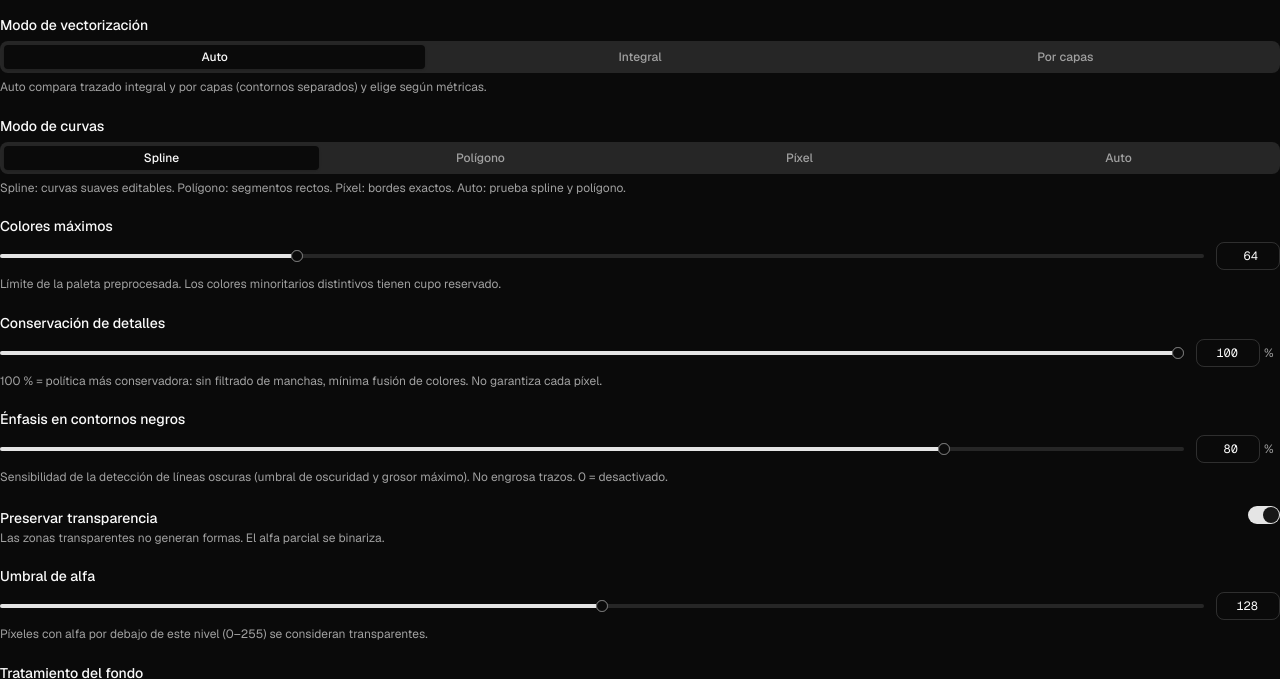
Test: ParamsPanel › muestra incompatibilidades
Click the radio button labelled "Por capas": point(1065, 57) [855,45,1276,69]
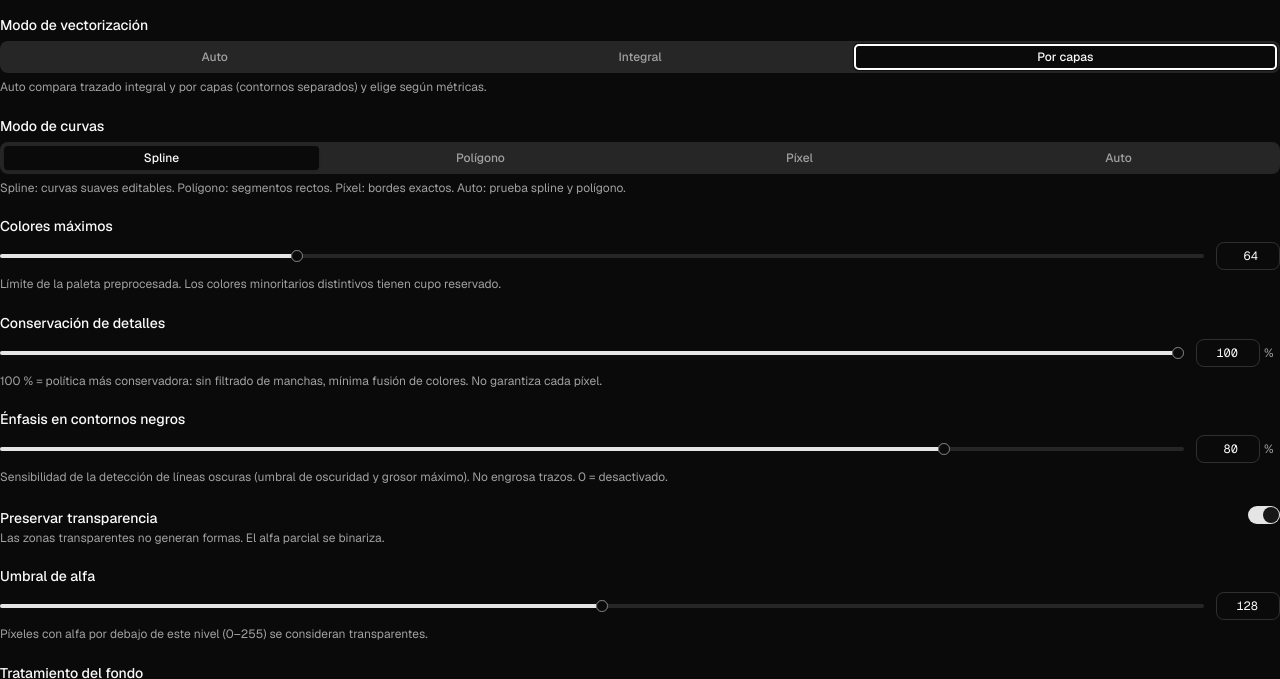
Replace the text in the number field with test id "input-outline_emphasis" with "0": point(1228, 449) [1196,435,1260,463]
(page scrolled)
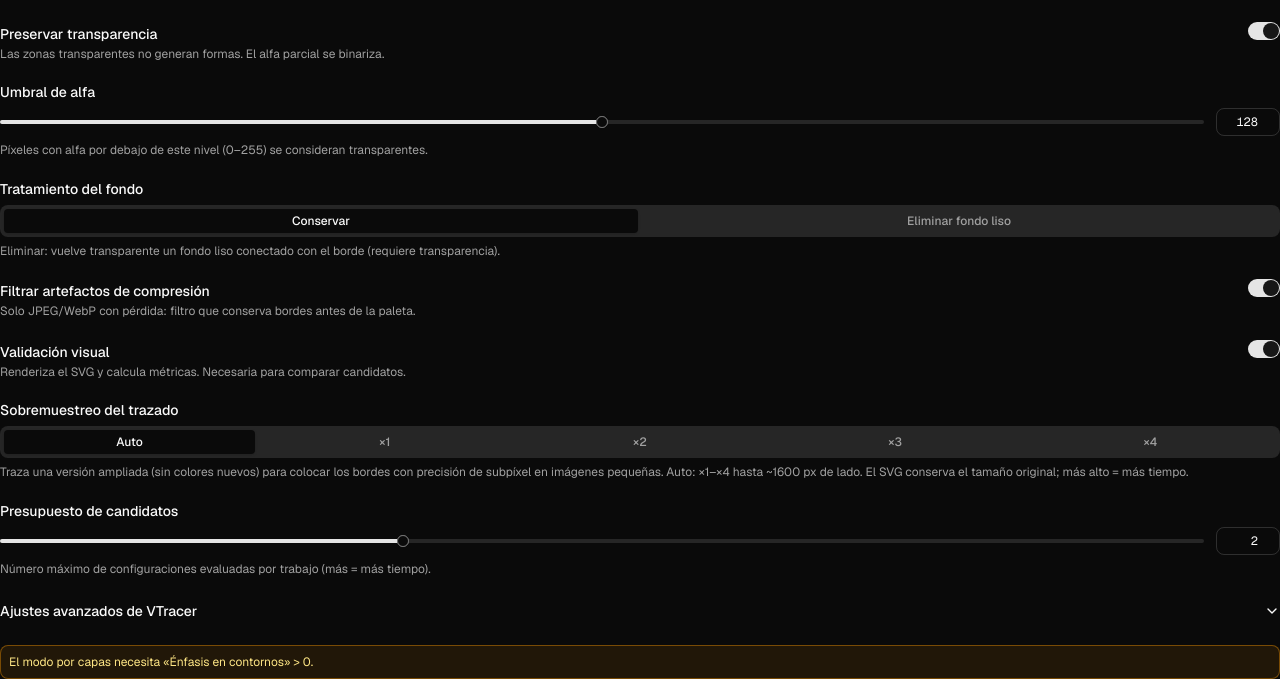
Now the message with test id "param-problems" shows "capas", box [9,654,313,670]
